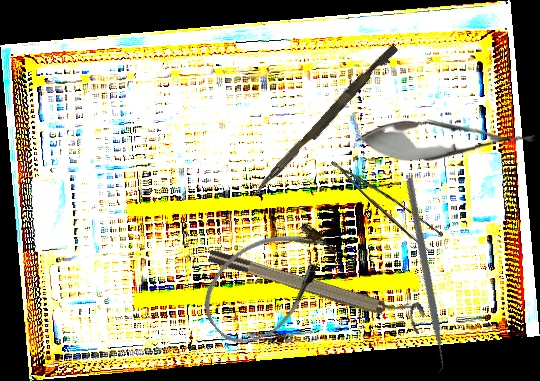Cannula: (186, 203, 351, 361)
Chopper: (320, 176, 522, 381)
Fixation Ring: (206, 236, 428, 335)
Micro Scissor: (354, 116, 539, 163)
Pusher: (251, 40, 399, 202)
Tissue Forceps: (330, 144, 448, 259)
